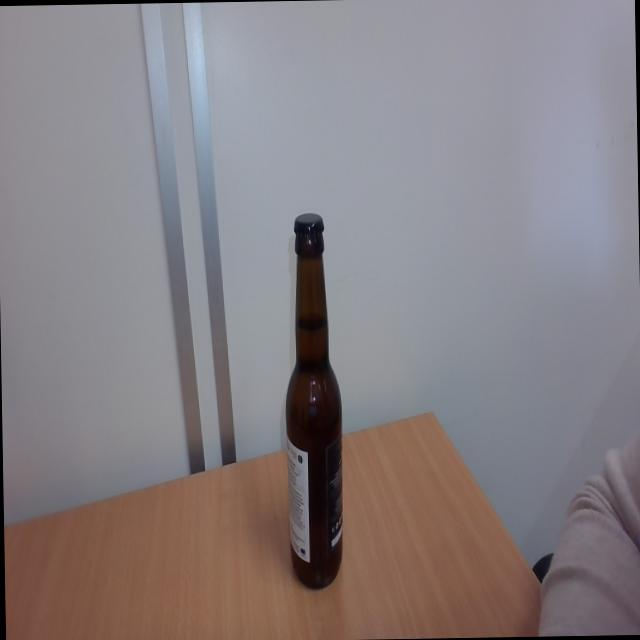Bottle: (282, 238, 344, 592)
Cap: (292, 208, 324, 237)
Label: (282, 441, 345, 565)
